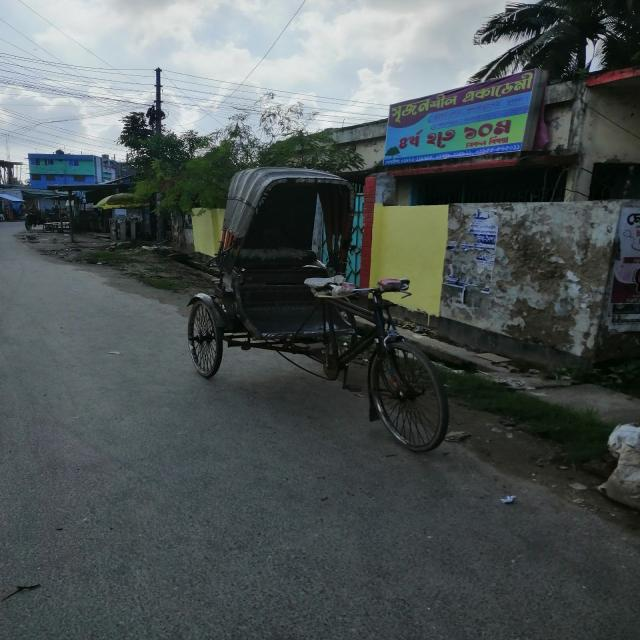Auto-Rickshaw: (172, 156, 478, 472)
